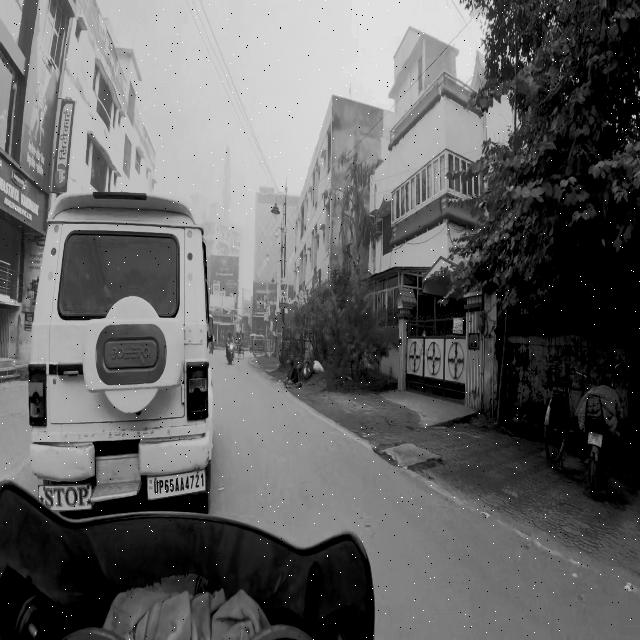Car: (33, 180, 221, 514)
